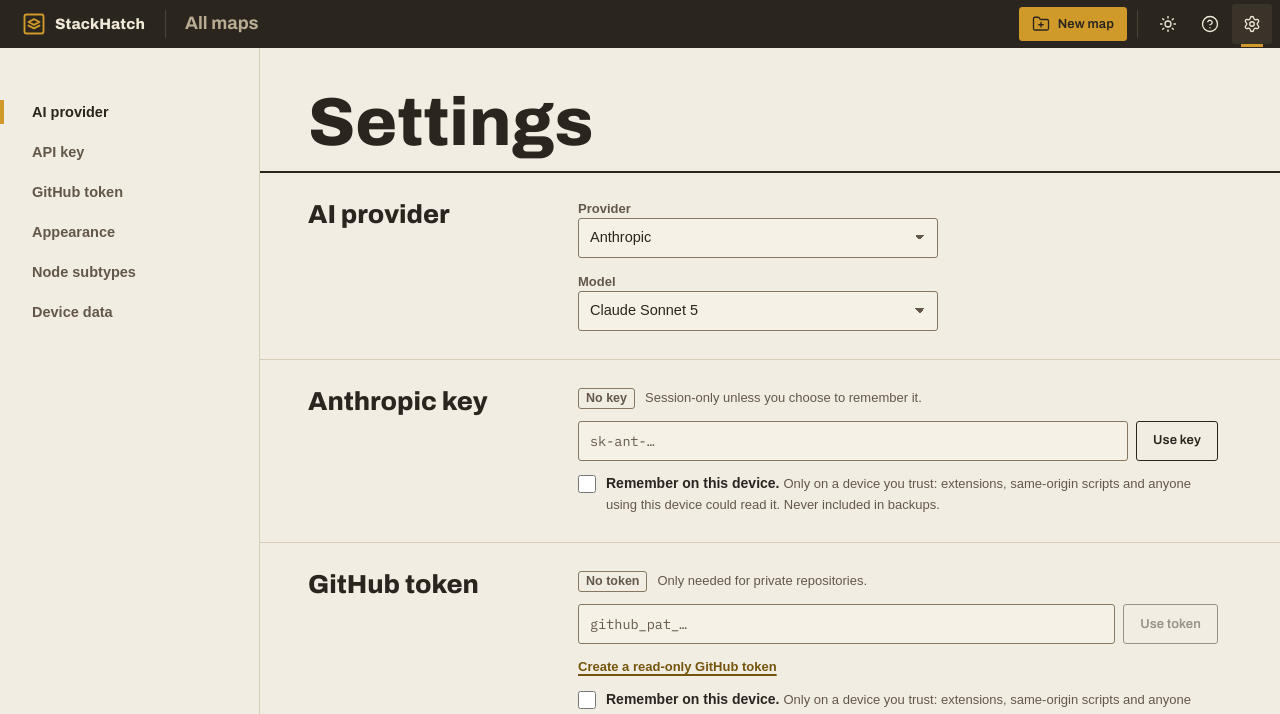
Test: DeviceSettingsPage › remembers only after explicit opt-in and forgets active plus durable state
Check: the text "No key" is shown, box x1=578 y1=388 x2=635 y2=409
Step 1. Type "sk-ant-remember" into the password field named "Anthropic API key" → (853, 441), box x1=578 y1=421 x2=1128 y2=461
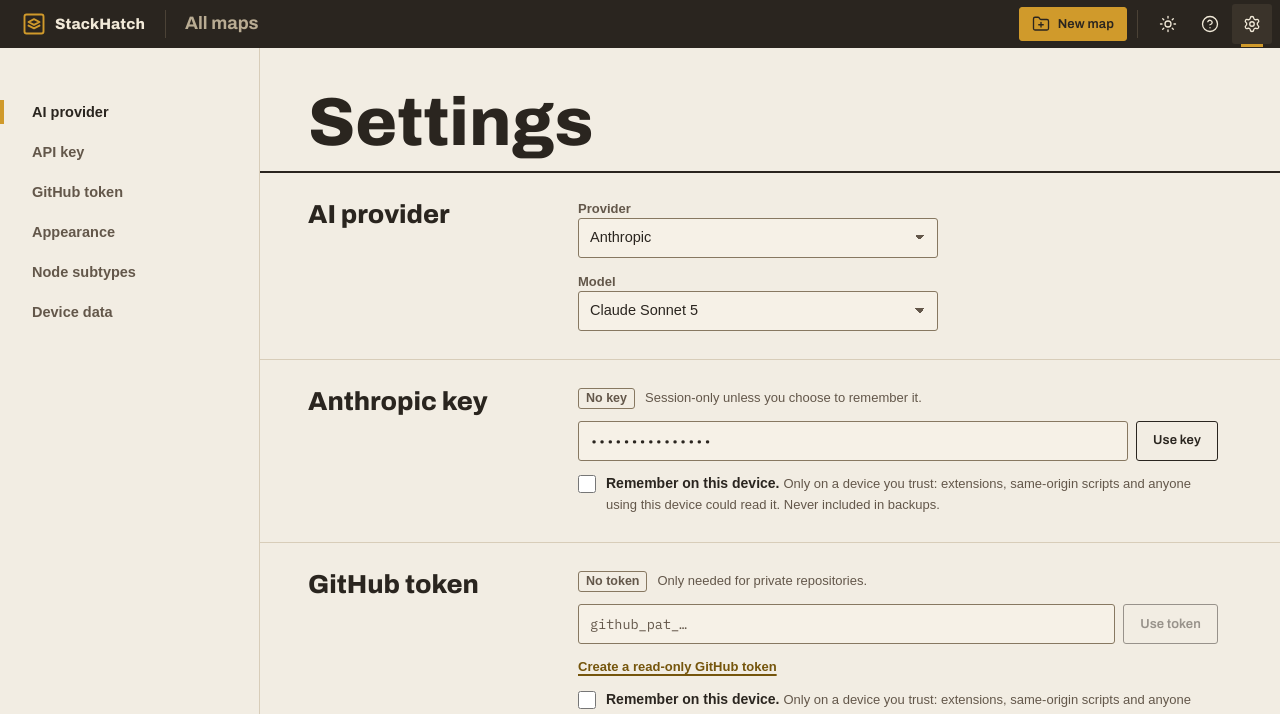
Step 2. Click the checkbox below "No key" → (587, 484), box x1=578 y1=475 x2=596 y2=493
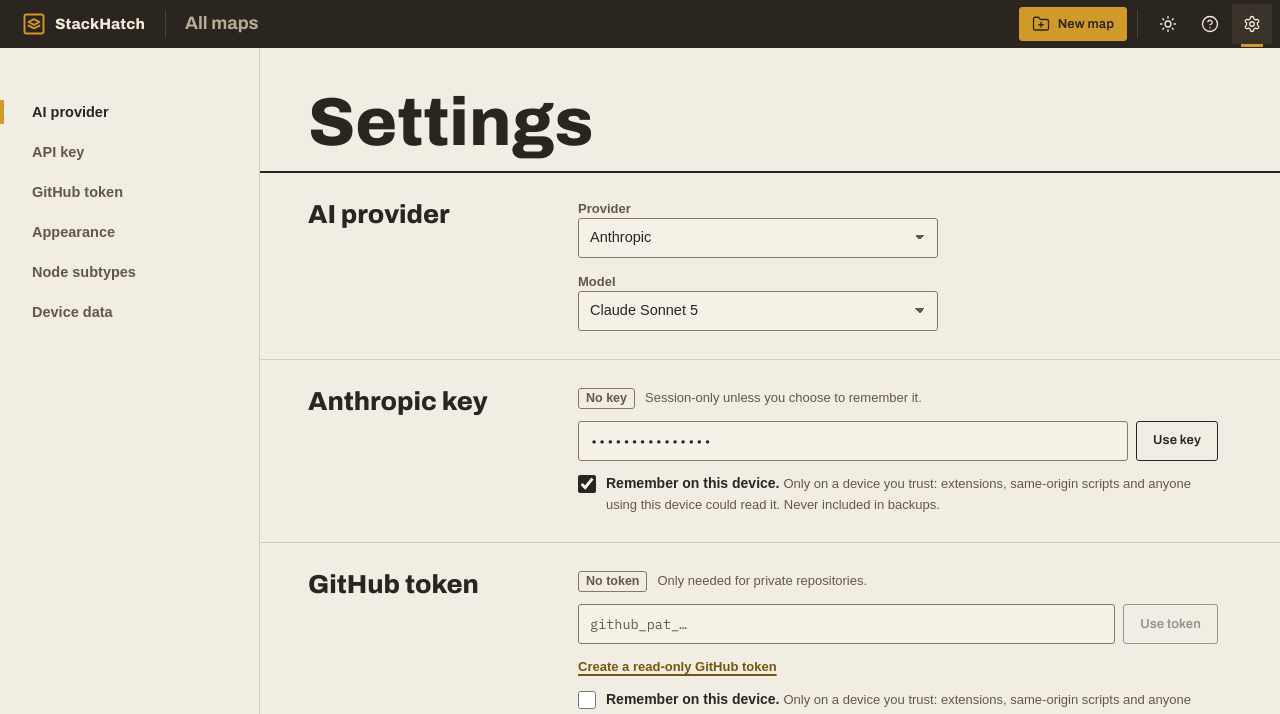
Step 3. Click the button "Use key" → (1177, 441), box x1=1136 y1=421 x2=1218 y2=461
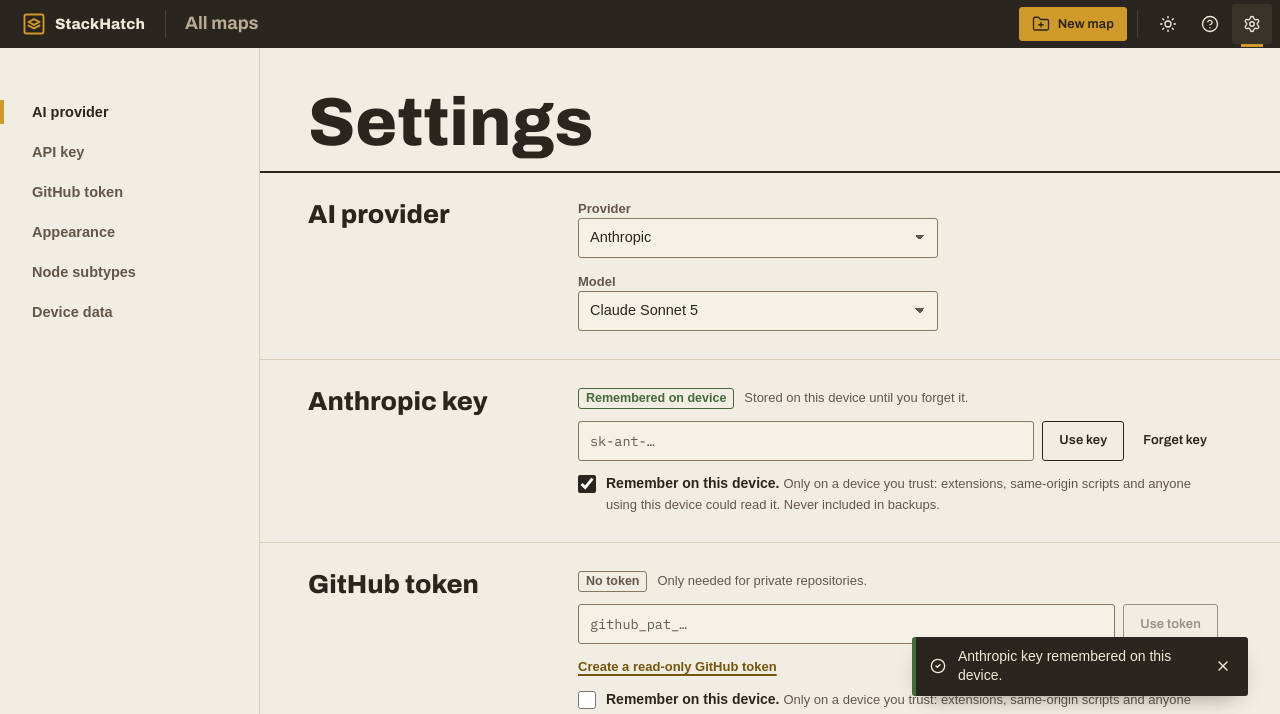
Check: the text "extensions, same-origin scripts and anyone using" below "Remembered on device" is shown, box x1=606 y1=476 x2=1191 y2=512
Check: the text with test id "key-status-remembered" reads "Remembered on device", box x1=586 y1=391 x2=726 y2=405
Step 4. Click the button "Forget key" → (1175, 441), box x1=1132 y1=421 x2=1218 y2=461
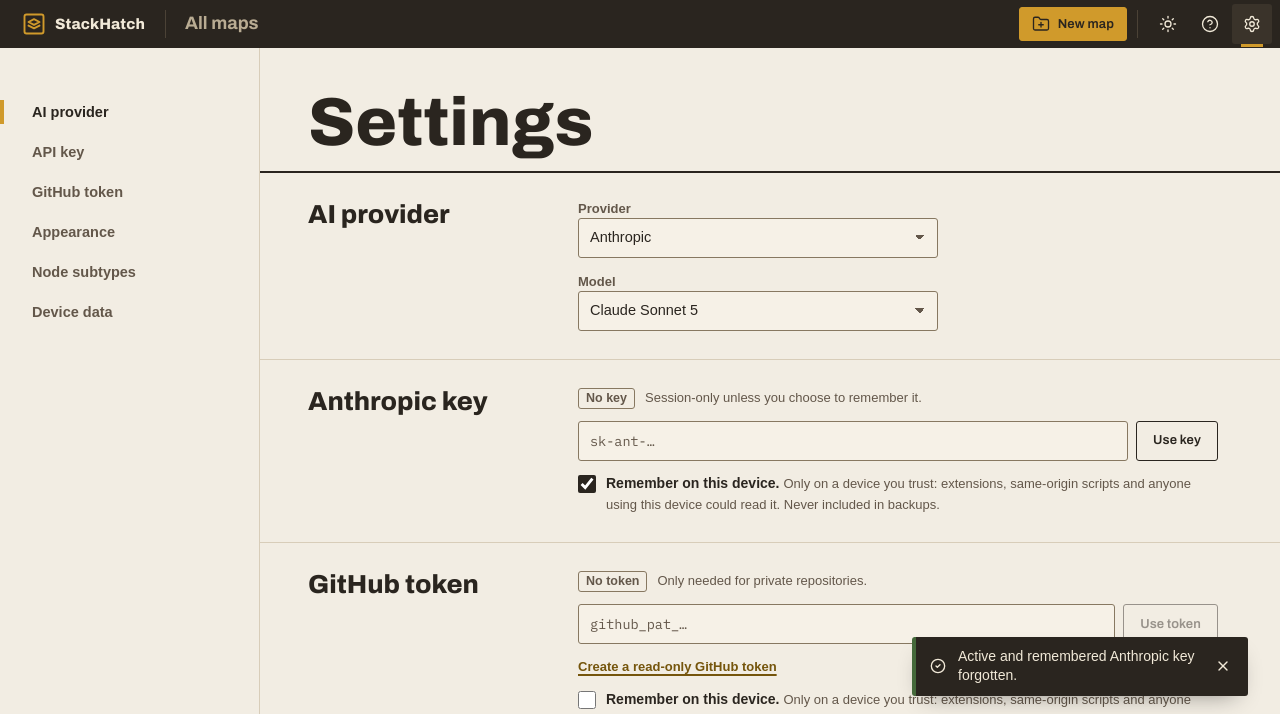
Check: the text "No key" is shown, box x1=578 y1=388 x2=635 y2=409
